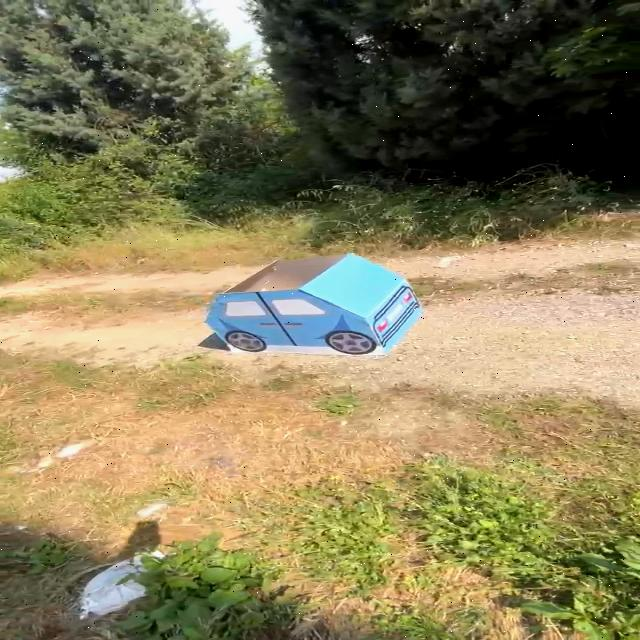blue_car: (194, 241, 448, 373)
